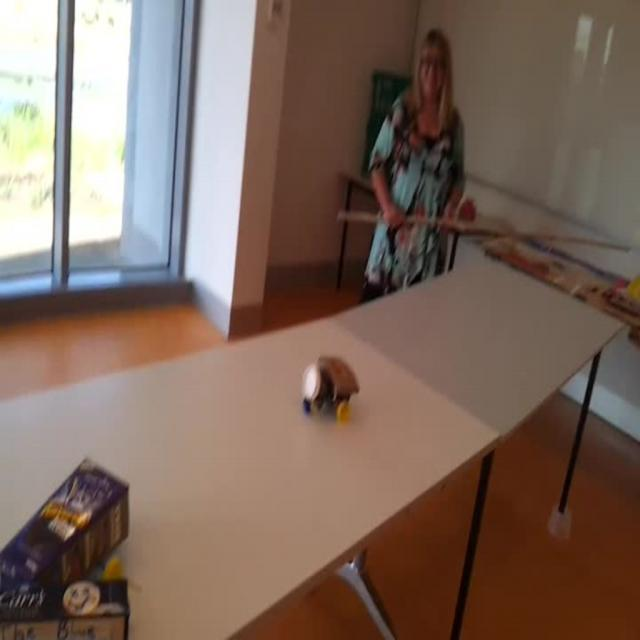chair: (335, 169, 380, 293)
desk: (0, 251, 627, 638)
person: (360, 27, 466, 301)
